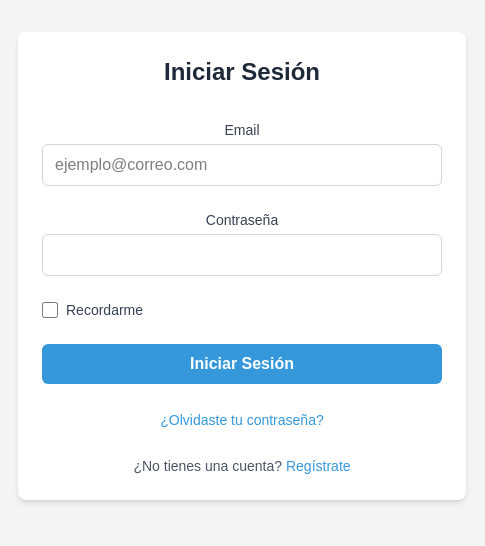
Test: LoginForm Component › muestra mensajes de error si los campos están vacíos
The image size is (485, 546).
Click the button "Iniciar Sesión": (242, 364) [42,344,442,384]
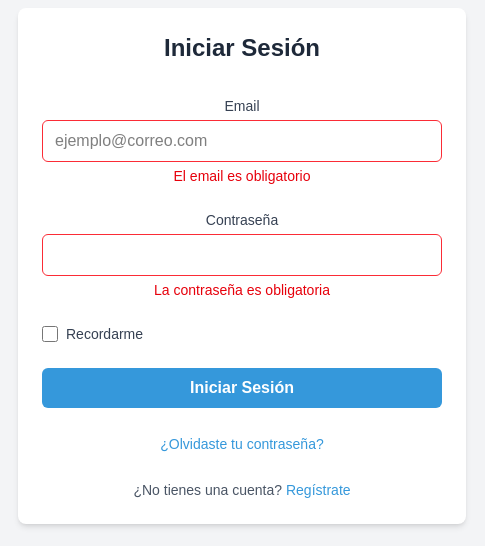
Expected: the text "El email es obligatorio" is shown, [174,168,310,184]
Expected: the text "La contraseña es obligatoria" is shown, [154,282,330,298]
